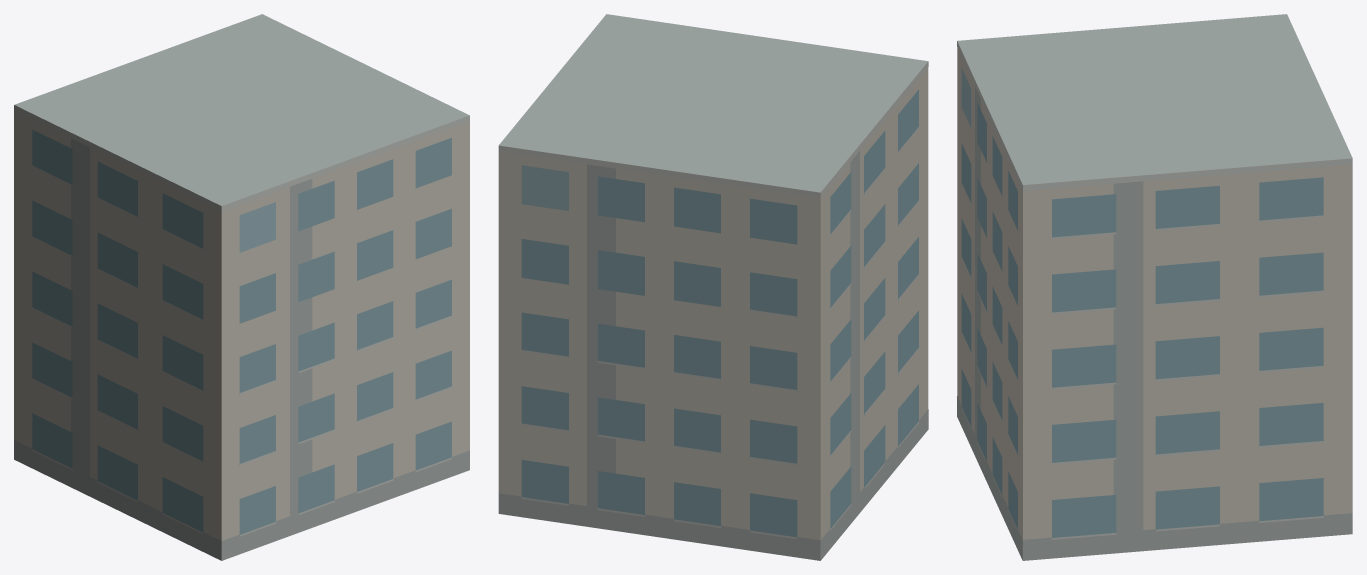
The model's file is residential-9ac02a32-d9e2-47cb-848c-795474cf765a.glb.
3 renders of one model, left to right at view 1: azimuth 30°, elevation 25°; view 2: azimuth 150°, elevation 25°; view 3: azimuth 270°, elevation 25°, orthographic. The views are drawn at different scales.
Visible parts, largest first — view 1: residential-9ac02a32-d9e2-47cb-848c-795474cf765a.tmp; view 2: residential-9ac02a32-d9e2-47cb-848c-795474cf765a.tmp; view 3: residential-9ac02a32-d9e2-47cb-848c-795474cf765a.tmp.
Part boxes in pixels (x1,y1,x2,y2): residential-9ac02a32-d9e2-47cb-848c-795474cf765a.tmp: [14, 14, 469, 560]; residential-9ac02a32-d9e2-47cb-848c-795474cf765a.tmp: [498, 14, 928, 560]; residential-9ac02a32-d9e2-47cb-848c-795474cf765a.tmp: [957, 14, 1352, 560].
Bounding box in the file's own units: 14.9 × 15.25 × 14.56.
